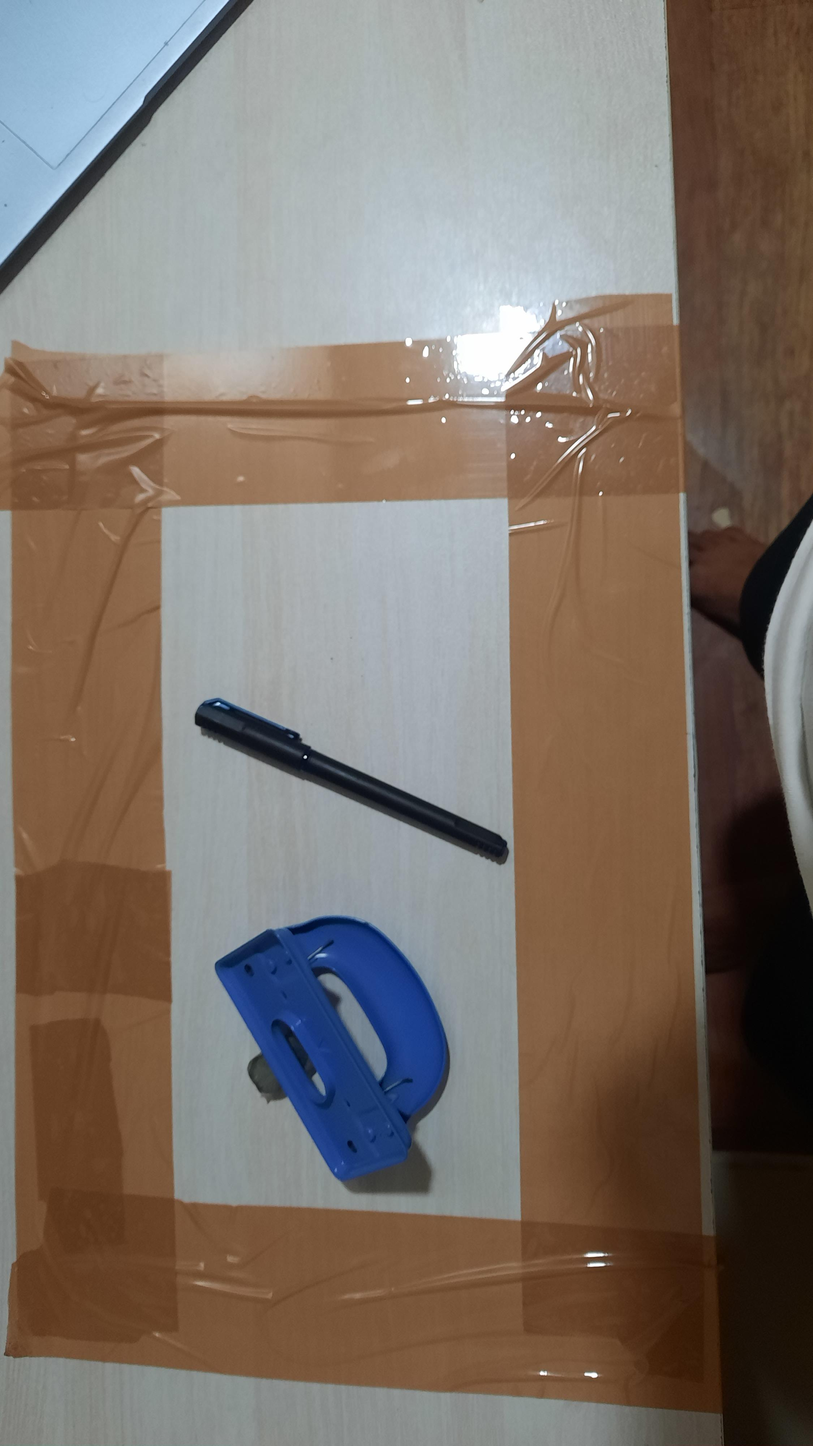Pen: (194, 697, 509, 864)
Punch: (213, 914, 452, 1182)
